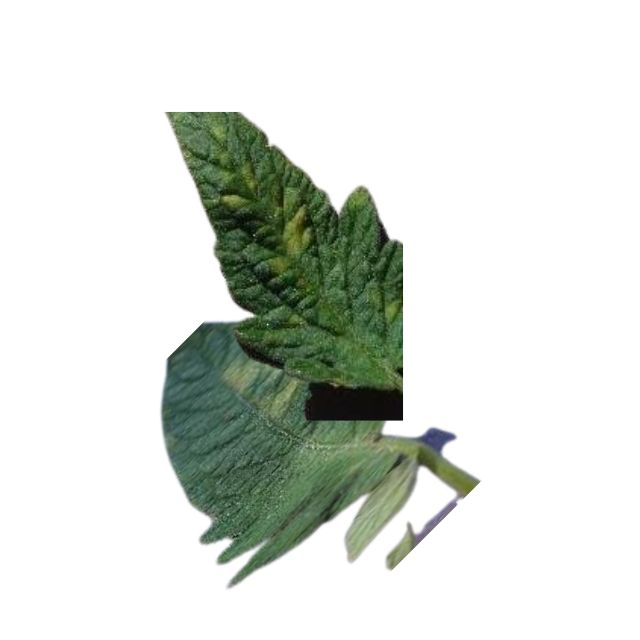Leaf_Mold: (265, 190, 314, 275), (214, 160, 257, 212), (253, 378, 302, 421), (220, 359, 259, 394)
